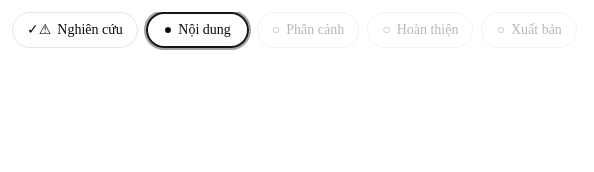
Scenario: PipelineStepper › done-warning station shows ✓⚠ and a tooltip listing warnings on hover
The width and height of the screenshot is (594, 172).
Expected: the text "✓⚠" is shown, [27,20,51,40]
Hover over the button "✓⚠ Nghiên cứu": (75, 30) [12,12,138,48]
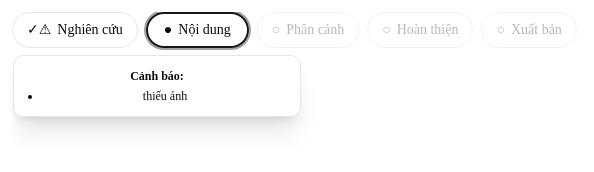
Expected: the tooltip shows "thiếu ảnh", [143,89,187,103]
